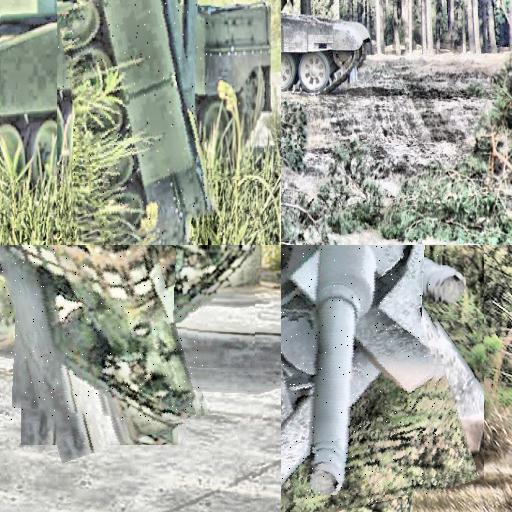tanks: (282, 246, 438, 495), (59, 1, 211, 239), (6, 246, 204, 423), (282, 12, 371, 94), (290, 1, 295, 14)
